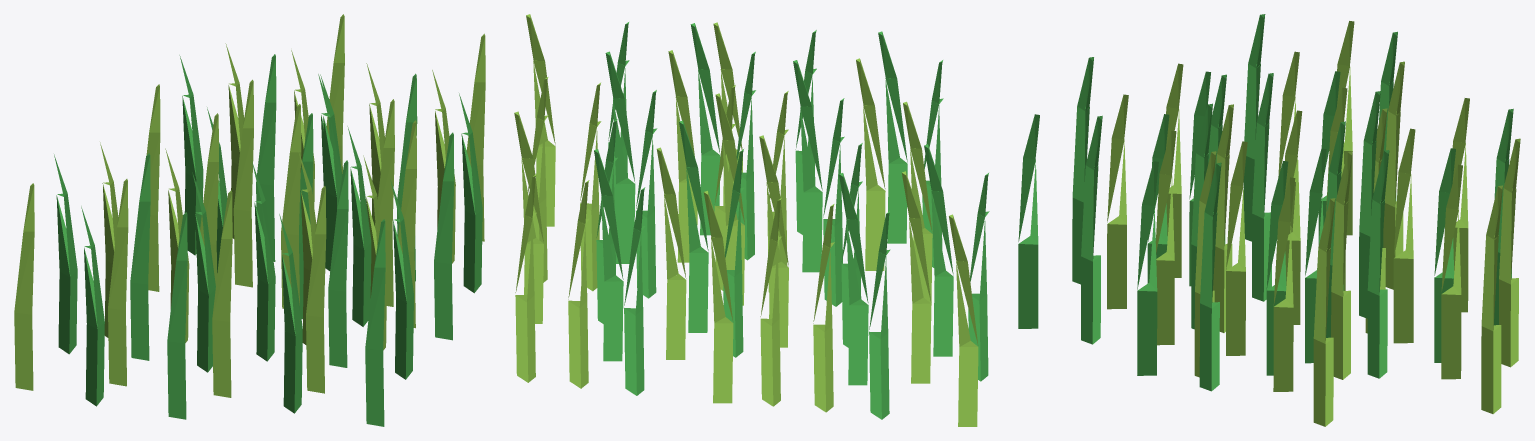
The model's file is grass.glb.
3 renders of one model, left to right at view 1: azimuth 30°, elevation 25°; view 2: azimuth 150°, elevation 25°; view 3: azimuth 270°, elevation 25°, orthographic. The views are drawn at different scales.
Parts seen in each view (by area): view 1: Node; view 2: Node; view 3: Node.
Boxes of the visible parts, left/top/right/bottom form: Node: left=14, top=14, right=485, bottom=426; Node: left=514, top=14, right=989, bottom=426; Node: left=1018, top=14, right=1520, bottom=426.
Bounding box in the file's own units: 1.63 × 0.951 × 1.44.
